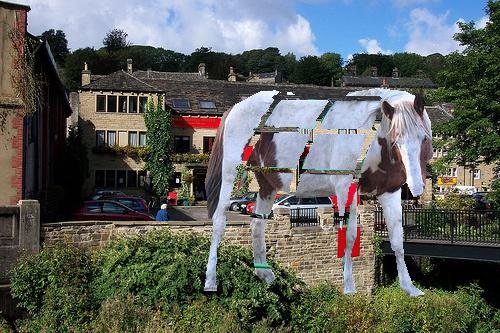tampered: (205, 89, 432, 296)
